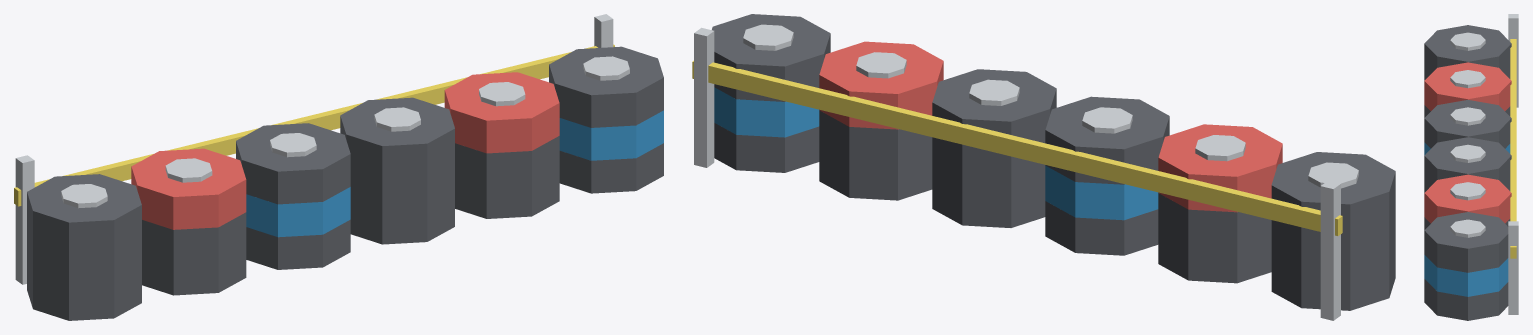
File: go-kart-track-and-pit-lane-tyre-wall-barrier-section-abb6418e__34337.glb
3 renders of one model, left to right at view 1: azimuth 30°, elevation 25°; view 2: azimuth 150°, elevation 25°; view 3: azimuth 270°, elevation 25°, orthographic. The views are drawn at different scales.
Parts seen in each view (by area): view 1: tyre-wall-barrier-section-charcoal, tyre-wall-barrier-section-red, tyre-wall-barrier-section-steel, tyre-wall-barrier-section-azure, tyre-wall-barrier-section-canary; view 2: tyre-wall-barrier-section-charcoal, tyre-wall-barrier-section-canary, tyre-wall-barrier-section-red, tyre-wall-barrier-section-steel, tyre-wall-barrier-section-azure; view 3: tyre-wall-barrier-section-charcoal, tyre-wall-barrier-section-red, tyre-wall-barrier-section-steel, tyre-wall-barrier-section-azure, tyre-wall-barrier-section-canary.
Part boxes in pixels (bbox=[...]): tyre-wall-barrier-section-charcoal: bbox=[27, 46, 663, 320]; tyre-wall-barrier-section-red: bbox=[131, 72, 559, 229]; tyre-wall-barrier-section-steel: bbox=[15, 14, 629, 284]; tyre-wall-barrier-section-azure: bbox=[246, 110, 663, 237]; tyre-wall-barrier-section-canary: bbox=[14, 44, 614, 206]; tyre-wall-barrier-section-charcoal: bbox=[712, 14, 1395, 310]; tyre-wall-barrier-section-canary: bbox=[692, 60, 1342, 235]; tyre-wall-barrier-section-red: bbox=[819, 41, 1282, 212]; tyre-wall-barrier-section-steel: bbox=[694, 24, 1358, 320]; tyre-wall-barrier-section-azure: bbox=[714, 87, 1158, 220]; tyre-wall-barrier-section-charcoal: bbox=[1424, 25, 1511, 320]; tyre-wall-barrier-section-red: bbox=[1424, 62, 1511, 223]; tyre-wall-barrier-section-steel: bbox=[1450, 14, 1518, 314]; tyre-wall-barrier-section-azure: bbox=[1424, 142, 1510, 296]; tyre-wall-barrier-section-canary: bbox=[1510, 39, 1516, 258].
Bounding box in the file's own units: 4.19 × 0.78 × 0.745.
